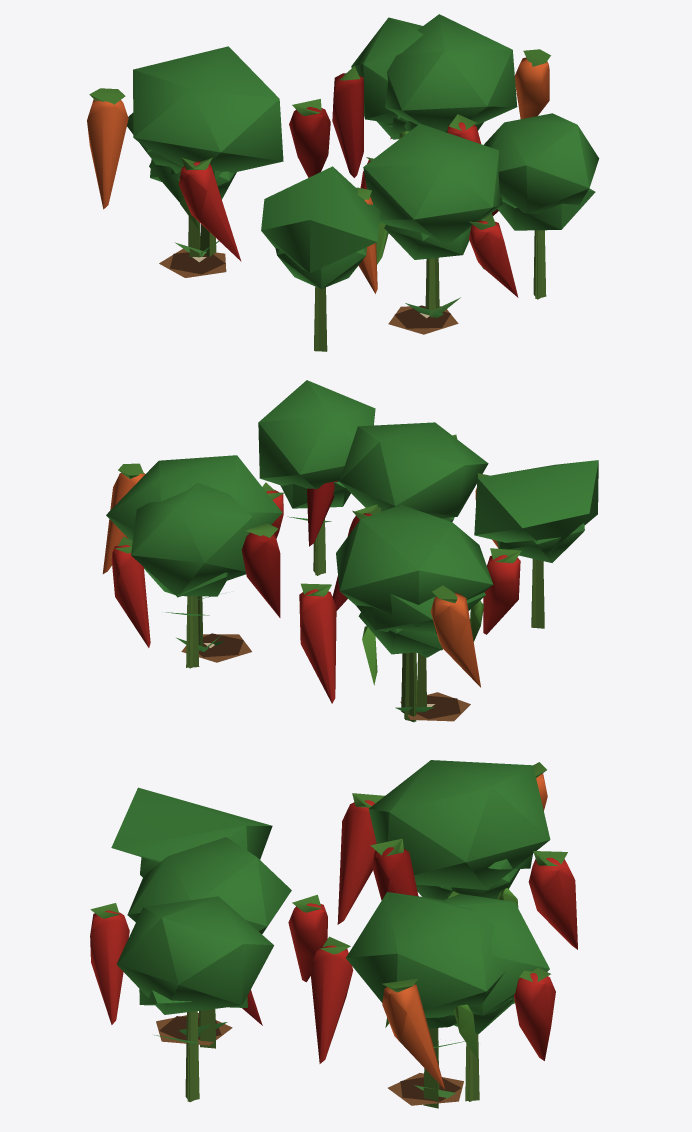
File: paprika-w5.glb
3 views of the same model, one above another, from view 1: azimuth 30°, elevation 25°; view 2: azimuth 150°, elevation 25°; view 3: azimuth 270°, elevation 25° (orthographic). The views are drawn at different scales.
Parts seen in each view (by area): view 1: crop-paprika-3, crop-paprika-3-far, crop-paprika-2-far, crop-paprika-2, crop-paprika-0; view 2: crop-paprika-3, crop-paprika-3-far, crop-paprika-2-far, crop-paprika-0, crop-paprika-2; view 3: crop-paprika-3, crop-paprika-3-far, crop-paprika-2-far, crop-paprika-0, crop-paprika-2.
Part boxes in pixels (left/top/right/bottom): crop-paprika-3: left=87, top=14, right=550, bottom=308; crop-paprika-3-far: left=127, top=17, right=599, bottom=351; crop-paprika-2-far: left=150, top=116, right=595, bottom=351; crop-paprika-2: left=149, top=120, right=484, bottom=310; crop-paprika-0: left=159, top=248, right=458, bottom=334; crop-paprika-3: left=102, top=422, right=521, bottom=712; crop-paprika-3-far: left=131, top=380, right=598, bottom=722; crop-paprika-2-far: left=144, top=481, right=584, bottom=721; crop-paprika-0: left=181, top=633, right=470, bottom=721; crop-paprika-2: left=197, top=517, right=483, bottom=711; crop-paprika-3: left=90, top=760, right=577, bottom=1108; crop-paprika-3-far: left=111, top=787, right=549, bottom=1101; crop-paprika-2-far: left=139, top=857, right=519, bottom=1101; crop-paprika-0: left=156, top=1013, right=463, bottom=1105; crop-paprika-2: left=198, top=884, right=518, bottom=1089.
Size of the model in its own units: 2.18 by 0.7528 by 2.09.
